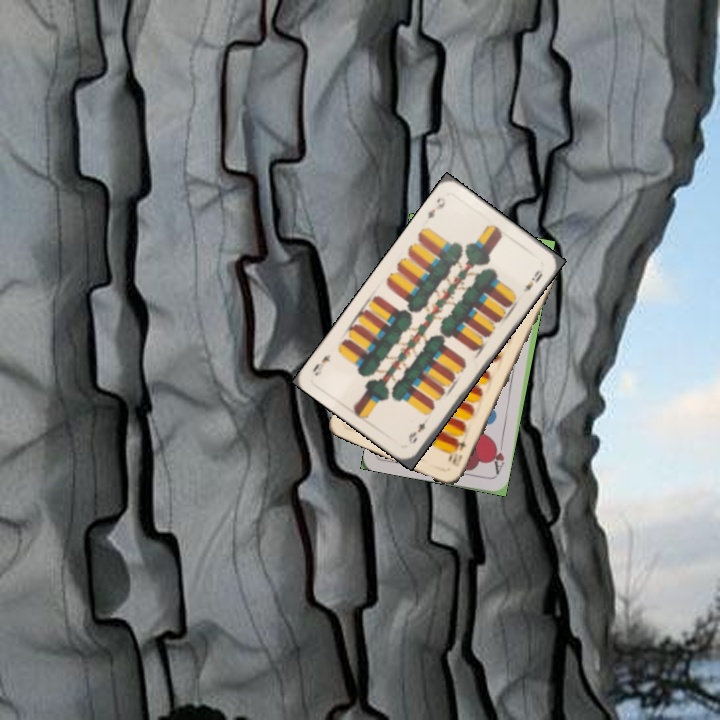E10: (448, 436, 469, 469)
E9: (423, 193, 448, 222), (404, 418, 428, 447)
HA: (488, 438, 507, 478)
